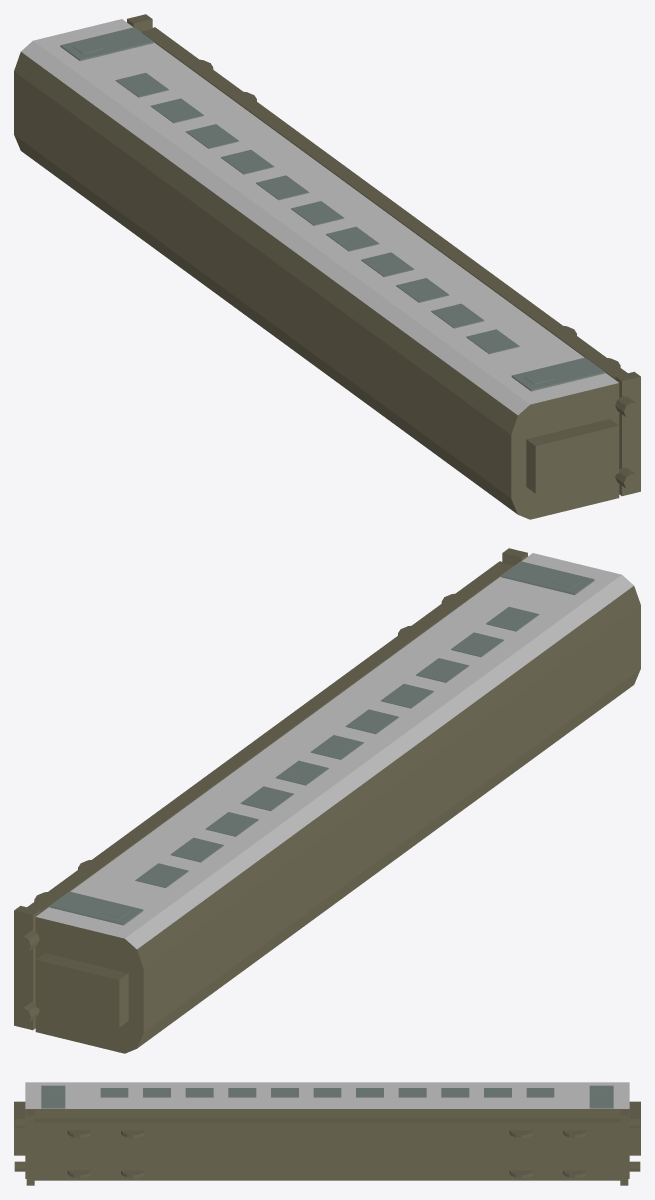
File: SM_VagonAbandonado_v1_Volcado_LOD1.fbx
3 views of the same model, one above another, from view 1: azimuth 30°, elevation 25°; view 2: azimuth 150°, elevation 25°; view 3: azimuth 270°, elevation 25° (orthographic). The views are drawn at different scales.
Visible parts, largest first — view 1: SM_vagon_abandonado_v1_LOD1; view 2: SM_vagon_abandonado_v1_LOD1; view 3: SM_vagon_abandonado_v1_LOD1.
Boxes of the visible parts, box(x1,y1,x2,y2) form: SM_vagon_abandonado_v1_LOD1: box(14, 14, 640, 519); SM_vagon_abandonado_v1_LOD1: box(14, 548, 640, 1053); SM_vagon_abandonado_v1_LOD1: box(14, 1082, 640, 1185).
Size of the model in its own units: 4 by 3.01 by 23.55.
